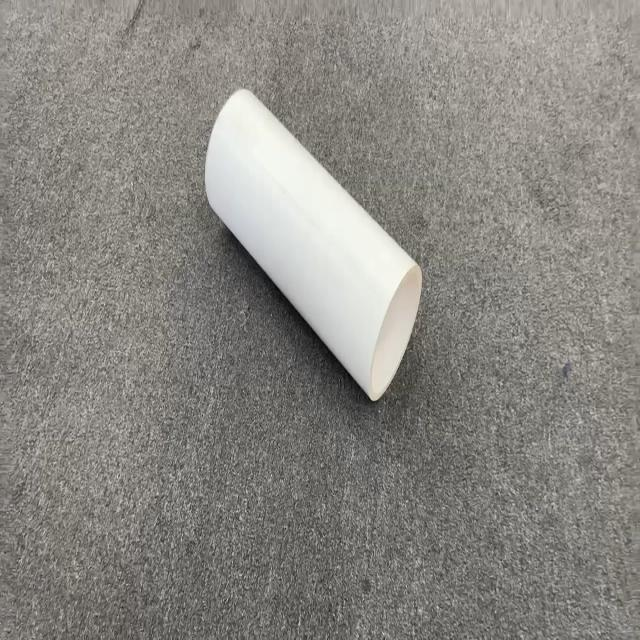coral: (204, 86, 422, 403)
